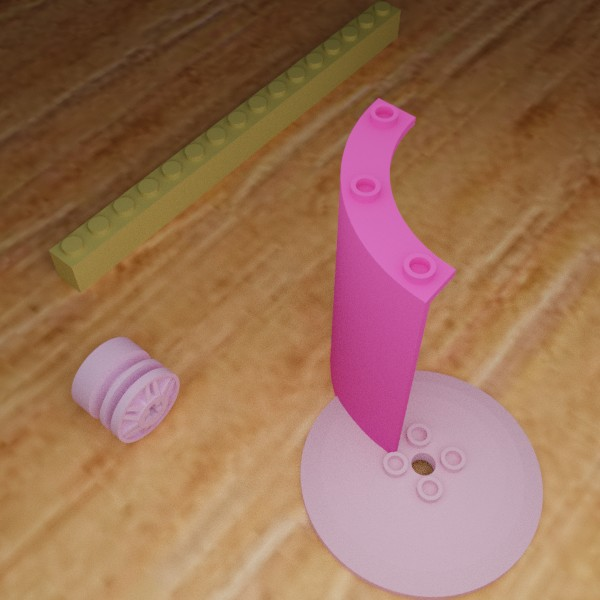lego: (48, 0, 400, 293), (300, 370, 542, 600), (330, 98, 456, 469), (71, 336, 179, 442)
